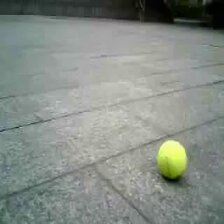tennis: (156, 139, 186, 177)
